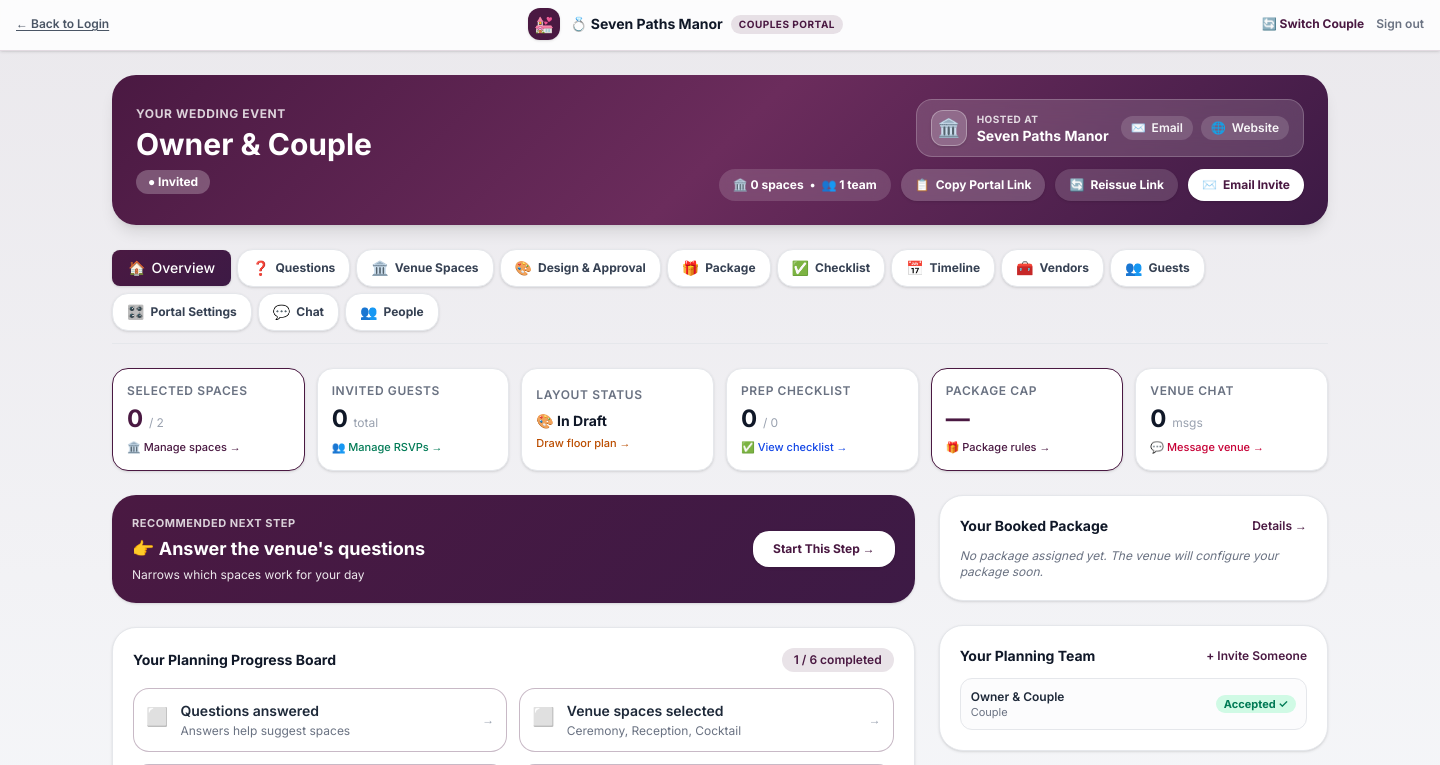
Test: CouplesPortal › lets the couple edit portal settings (save button present)
The image size is (1440, 765).
Step 1. Click the tab "🎛️ Portal Settings" → (182, 312), box [112,293,252,331]
(page scrolled)
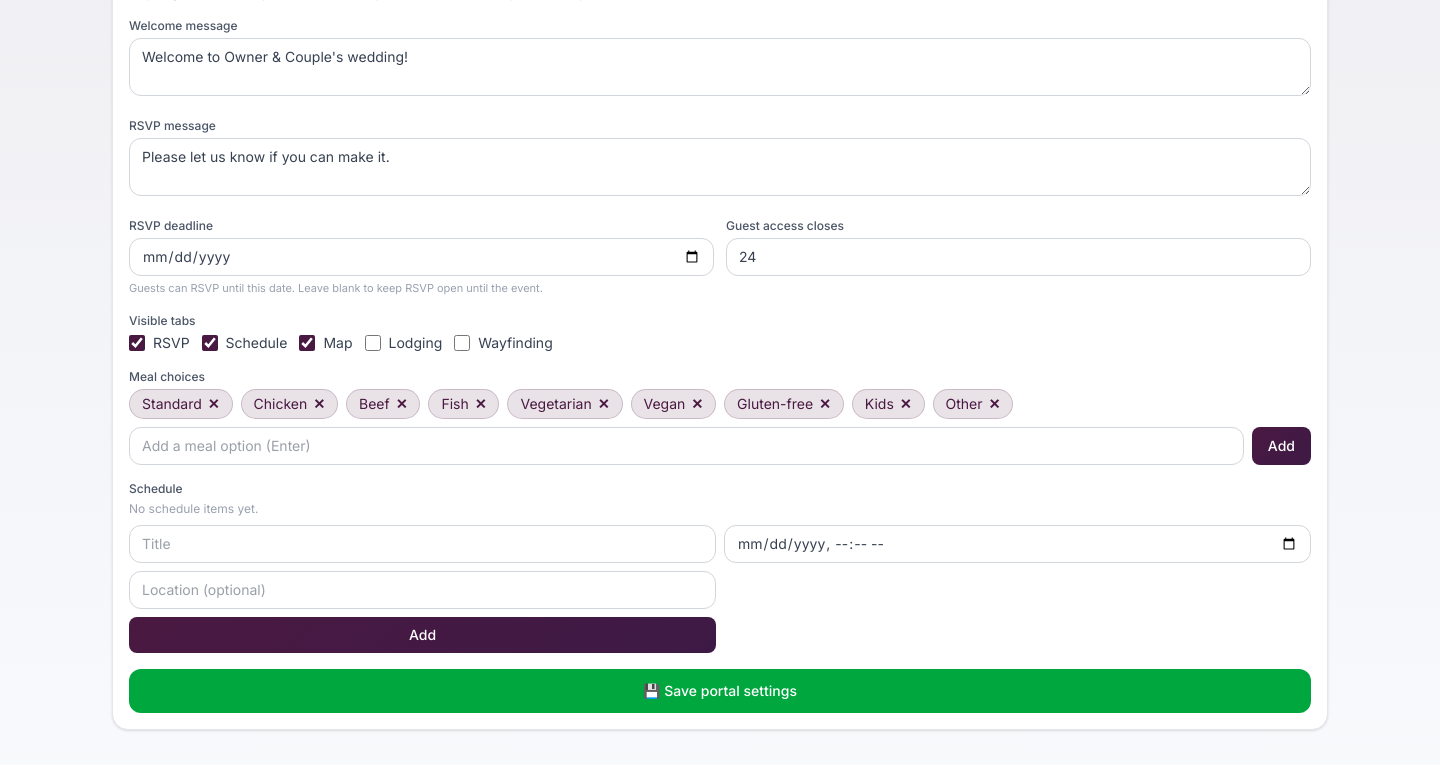
Check: the button "💾 Save portal settings" is shown, box [129,668,1311,712]
